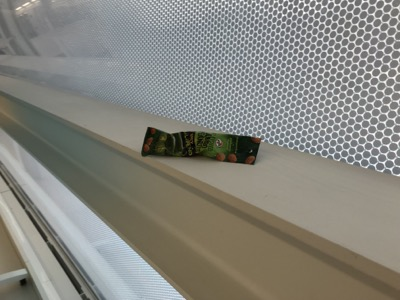peanut: (141, 127, 263, 165)
